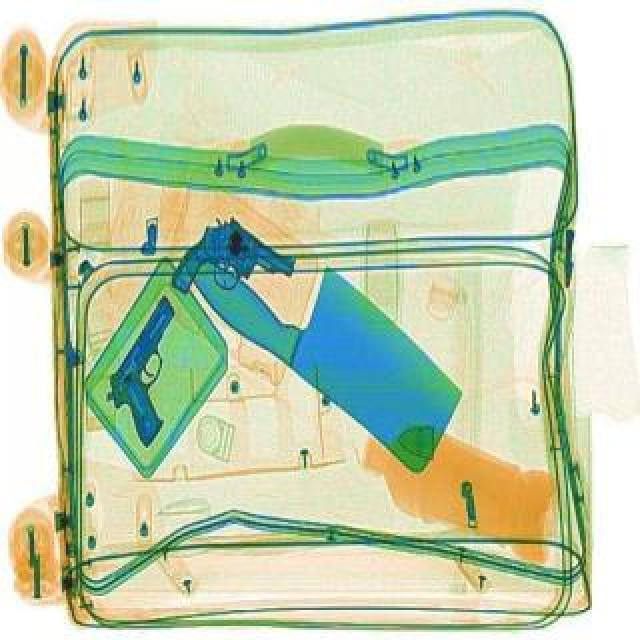gun: (80, 290, 232, 446), (160, 200, 304, 330)
knife: (174, 190, 492, 488)
